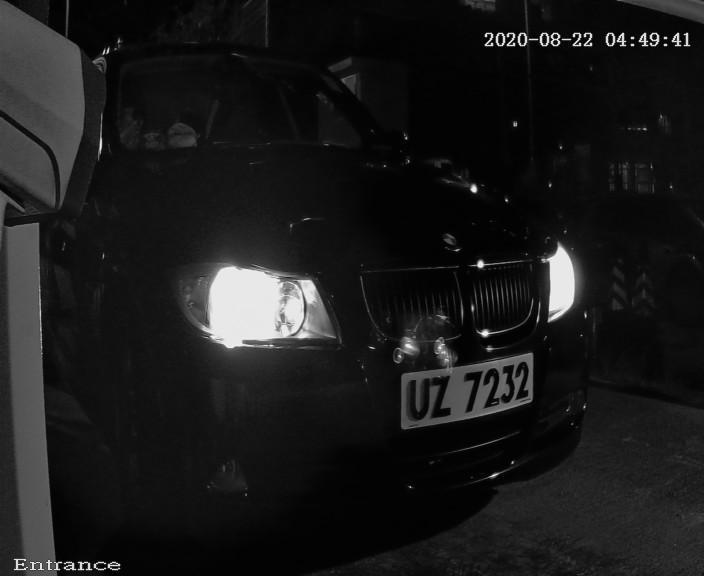Car: (51, 47, 610, 530)
License Plate: (393, 343, 544, 438)
